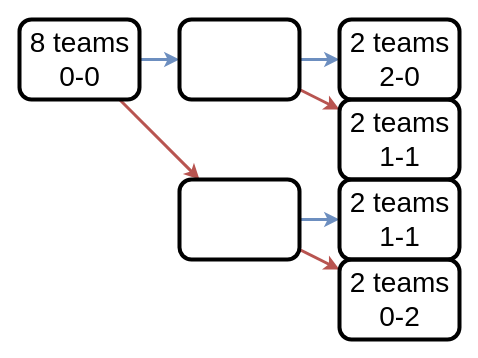
The diagram is 478 pixels wide and 358 high, and some of its shapes have lost their labels. The shapes that lost their labels are listed below. From the top down, each one's centre as x and y in pixels, then its label:
At (239,59): "4 teams 1-0".
At (239,219): "4 teams 0-1".
